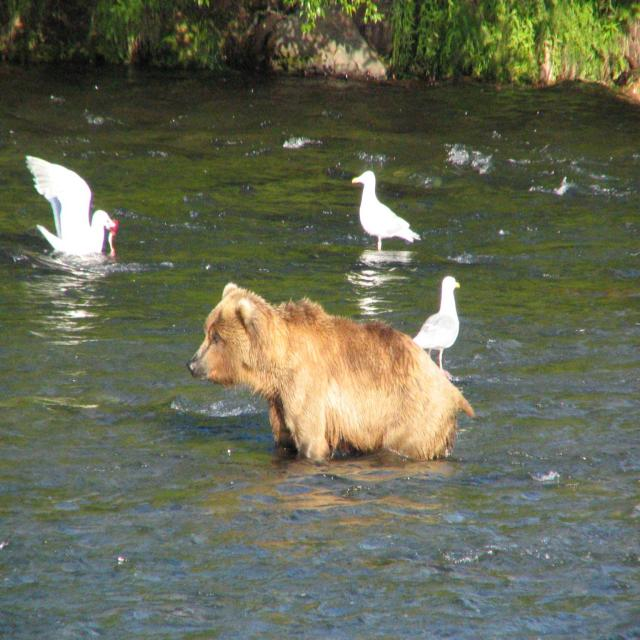bear face: (187, 284, 471, 459)
